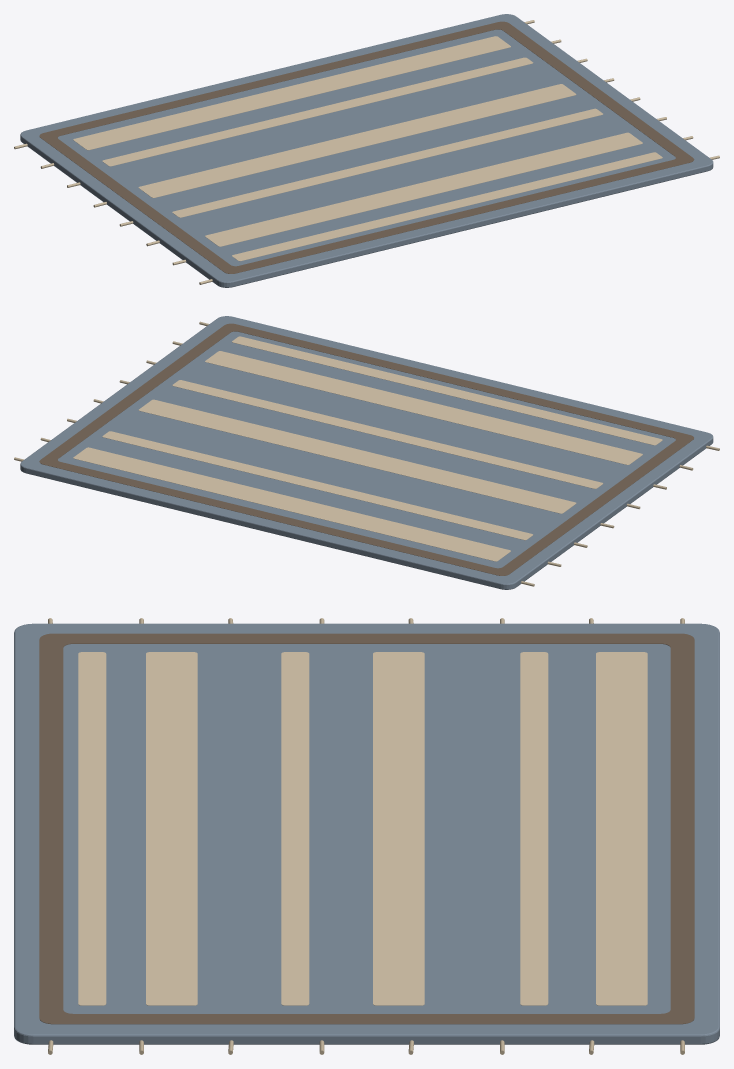
The model's file is stripedrug.glb.
The picture shows the model from 3 angles, top to bottom: view 1: azimuth 30°, elevation 25°; view 2: azimuth 150°, elevation 25°; view 3: azimuth 270°, elevation 25°; orthographic projection. The views are drawn at different scales.
Visible parts, largest first — view 1: closed-textile-backing, woven-border, woven-stripe-4, woven-stripe-0, woven-stripe-2, woven-stripe-1, woven-stripe-3, woven-stripe-5; view 2: closed-textile-backing, woven-border, woven-stripe-0, woven-stripe-2, woven-stripe-4, woven-stripe-1, woven-stripe-3, woven-stripe-5; view 3: closed-textile-backing, woven-border, woven-stripe-0, woven-stripe-2, woven-stripe-4, woven-stripe-3, woven-stripe-1, woven-stripe-5.
Part boxes in pixels (x1,y1,x2,y2): closed-textile-backing: [20, 14, 713, 287]; woven-border: [39, 21, 694, 273]; woven-stripe-4: [205, 132, 642, 246]; woven-stripe-0: [73, 36, 510, 150]; woven-stripe-2: [138, 84, 576, 197]; woven-stripe-1: [102, 57, 533, 166]; woven-stripe-3: [172, 108, 602, 217]; woven-stripe-5: [232, 152, 662, 261]; closed-textile-backing: [20, 316, 713, 589]; woven-border: [39, 323, 693, 575]; woven-stripe-0: [73, 447, 510, 561]; woven-stripe-2: [138, 399, 576, 513]; woven-stripe-4: [205, 351, 642, 464]; woven-stripe-1: [102, 431, 532, 540]; woven-stripe-3: [172, 380, 603, 488]; woven-stripe-5: [232, 336, 662, 445]; closed-textile-backing: [14, 623, 719, 1044]; woven-border: [39, 633, 694, 1024]; woven-stripe-0: [596, 652, 647, 1005]; woven-stripe-2: [373, 652, 424, 1005]; woven-stripe-4: [146, 652, 197, 1005]; woven-stripe-3: [281, 652, 309, 1005]; woven-stripe-1: [520, 652, 548, 1005]; woven-stripe-5: [78, 652, 106, 1005].
Size of the model in its own units: 2.57 by 0.0295 by 1.77.
